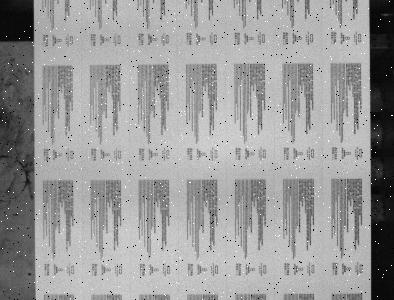backgroundclutter: (28, 272, 31, 276)
